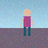person: (20, 9, 34, 36)
